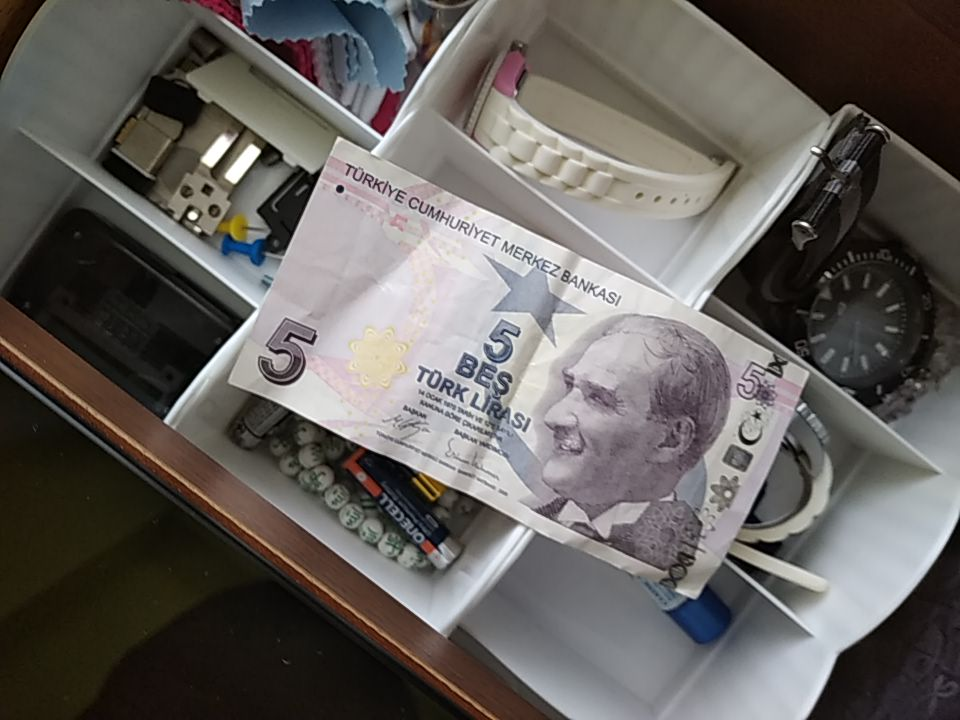5TL: (224, 136, 812, 600)
